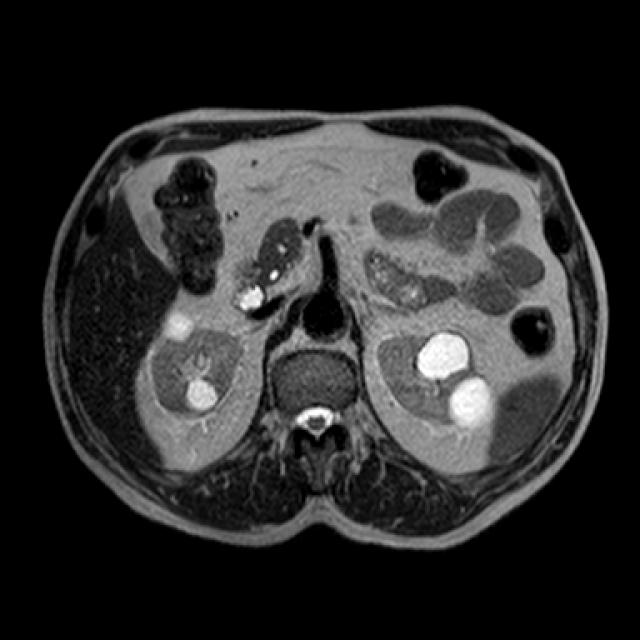sag: (149, 313, 247, 420)
sol: (375, 327, 501, 430)
